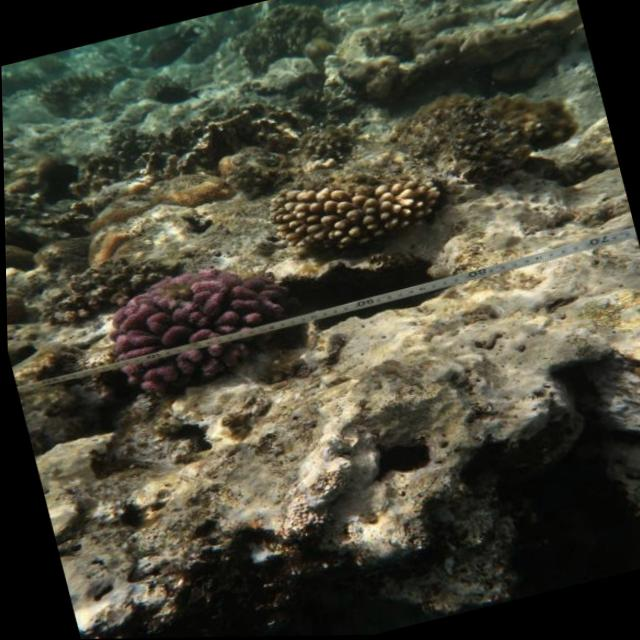Healthy Coral: (88, 242, 302, 411), (248, 147, 442, 300)
